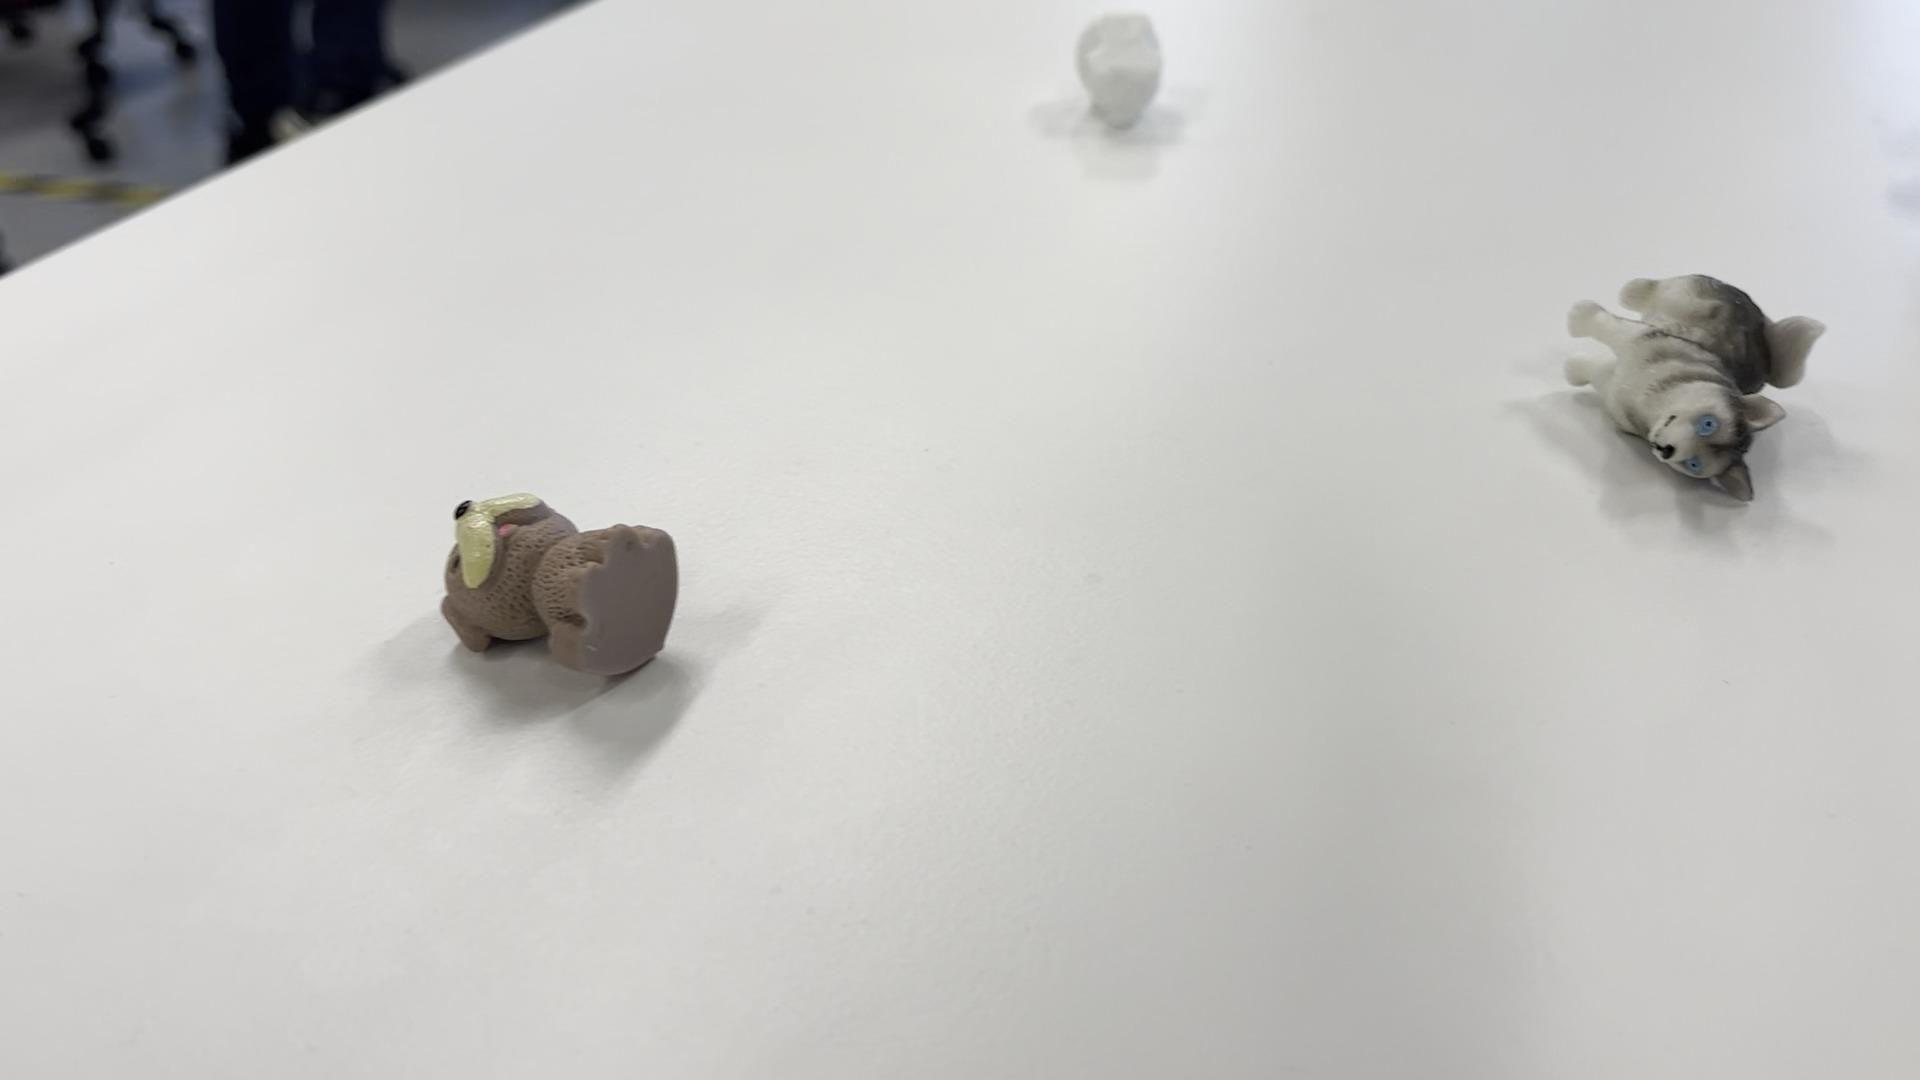pet: (1565, 233, 1821, 512), (431, 479, 716, 698), (1072, 0, 1195, 149)
